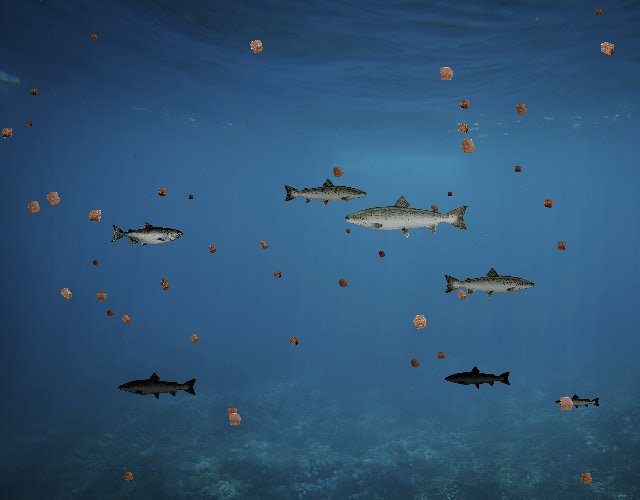Fish: (342, 193, 471, 239), (442, 267, 536, 300), (282, 177, 368, 208), (118, 372, 199, 401), (111, 222, 184, 248), (445, 365, 513, 390), (554, 393, 601, 410)
Pellet: (242, 32, 270, 60), (54, 281, 79, 306), (574, 467, 598, 491), (23, 117, 35, 129)
